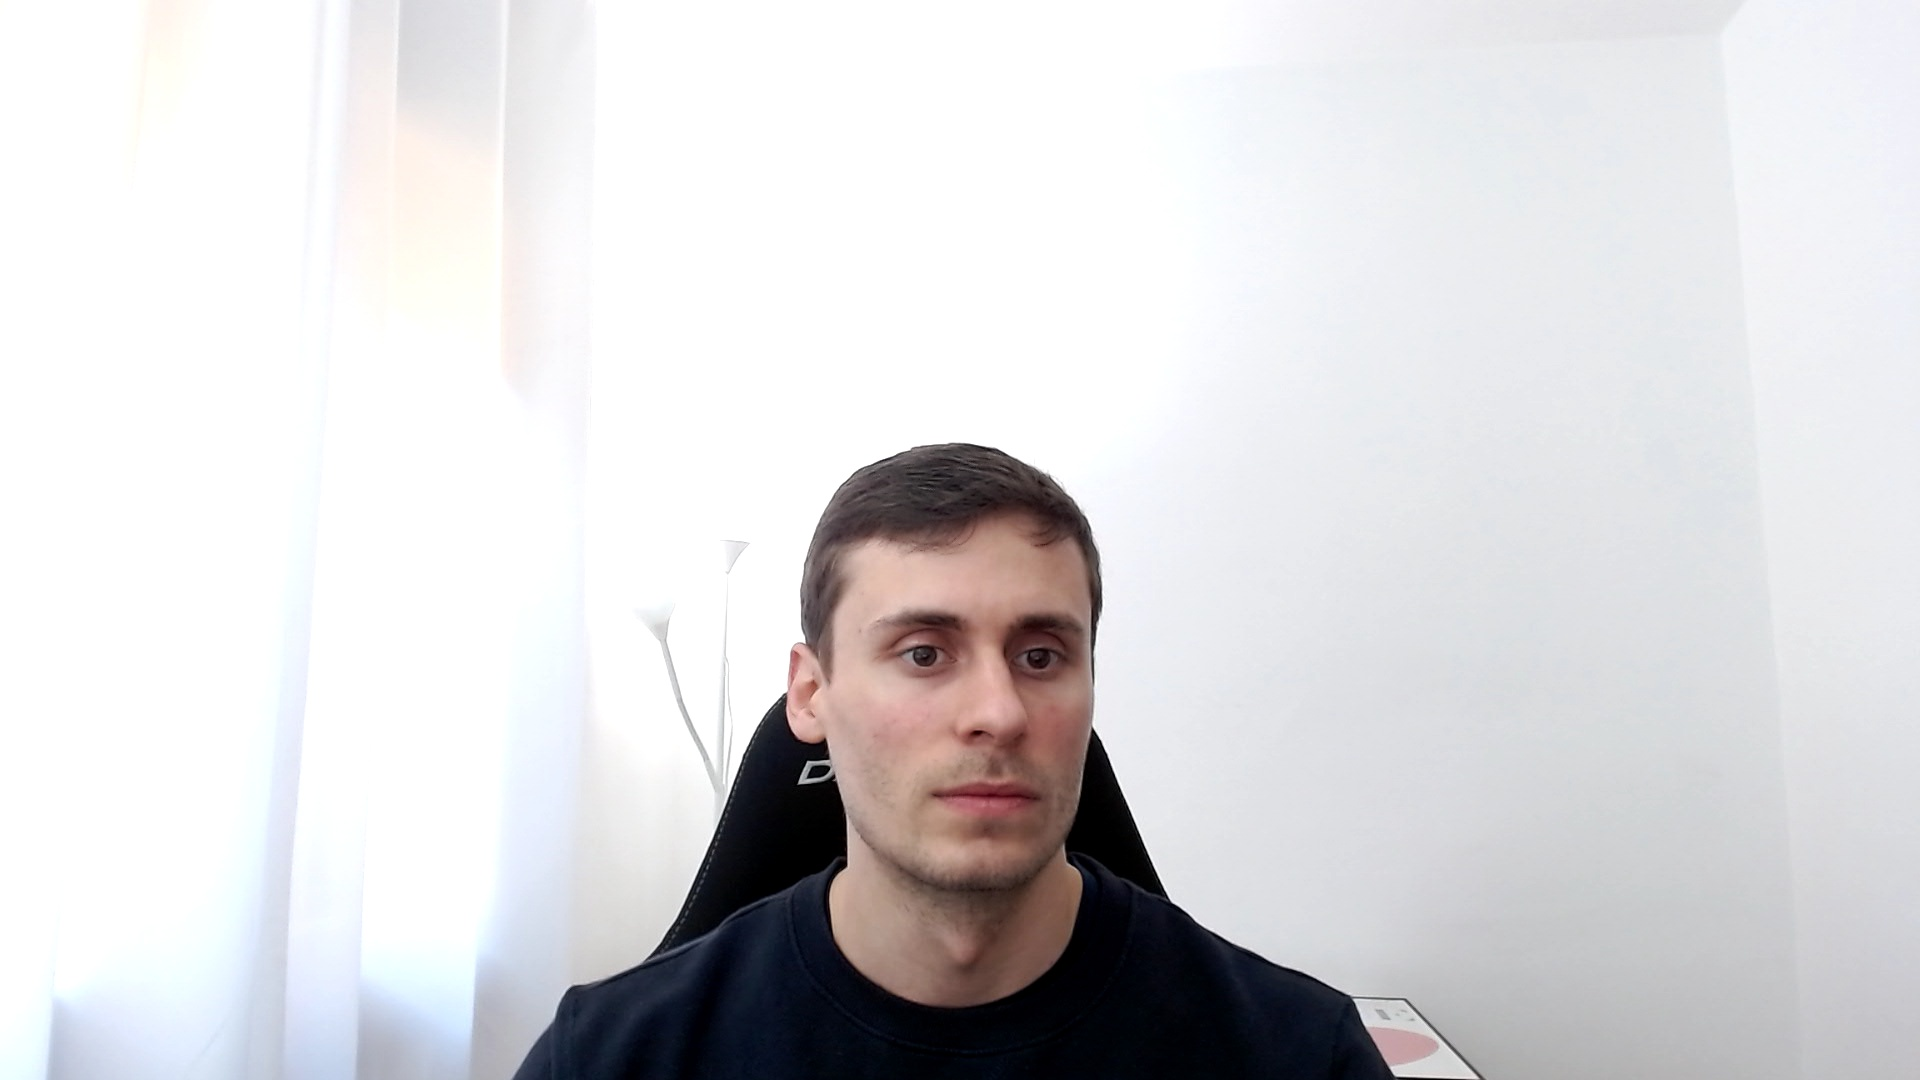No-mask: (787, 442, 1103, 888)
